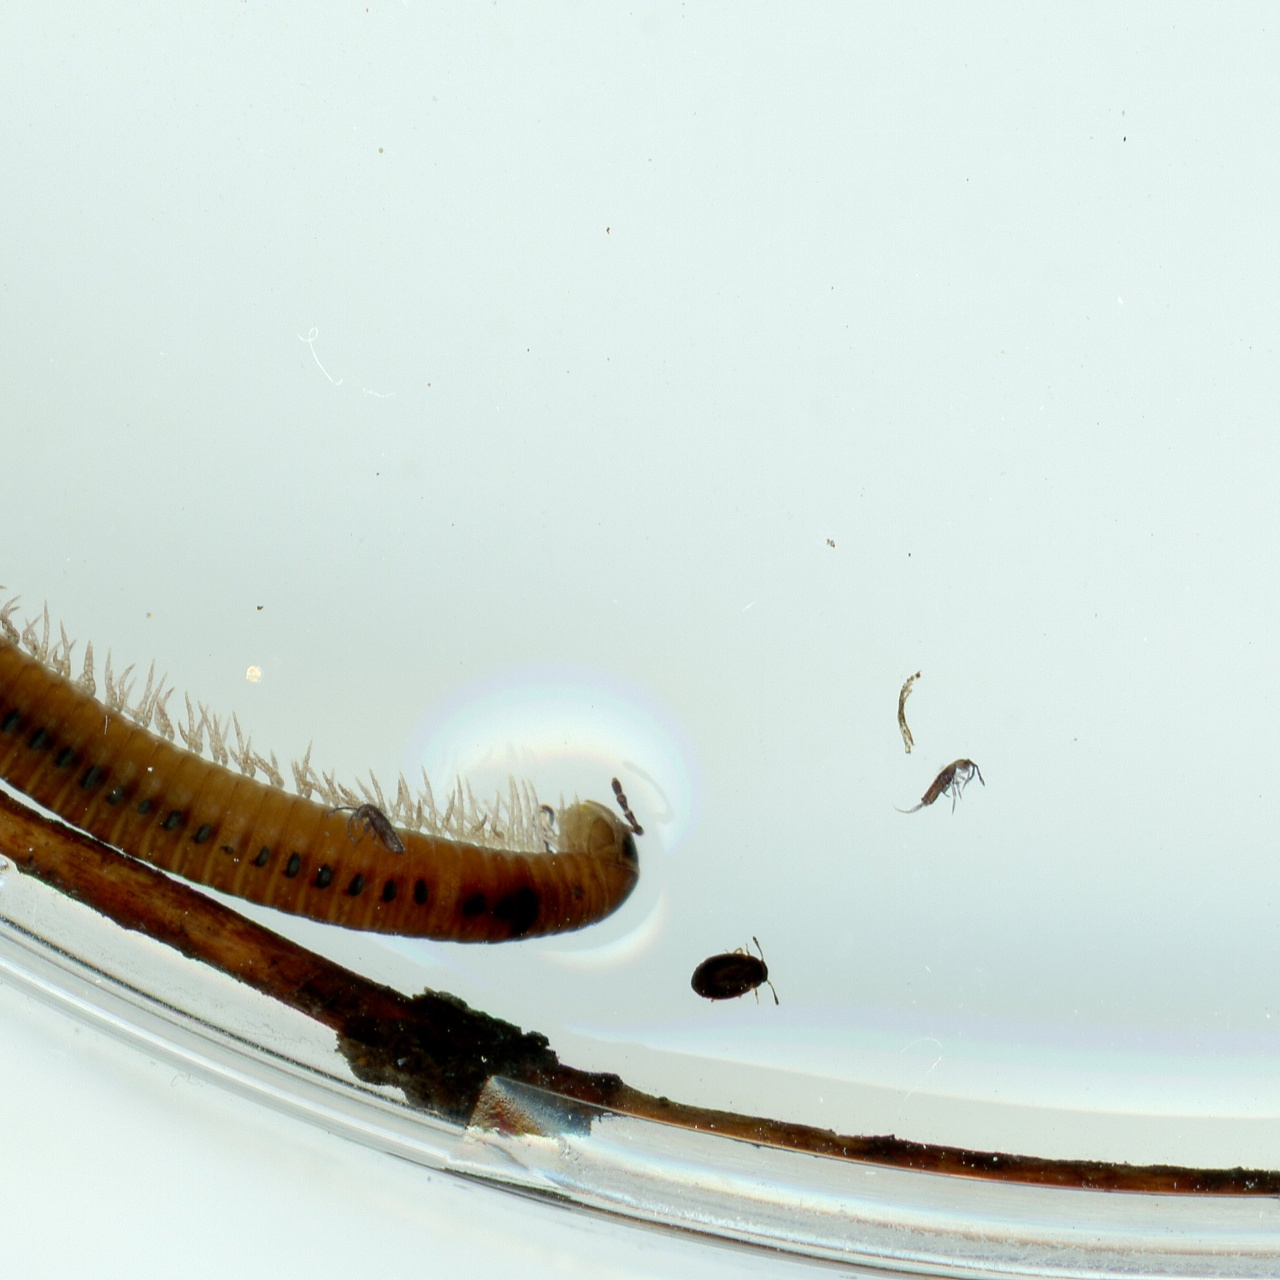arthropod: (0, 97, 725, 1120), (306, 758, 427, 890), (675, 927, 798, 1024), (879, 744, 1002, 837)
